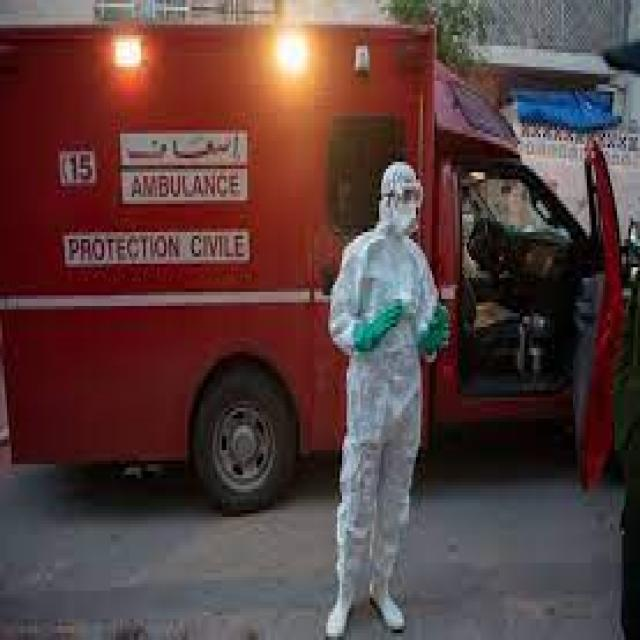ambulance: (5, 25, 630, 486)
